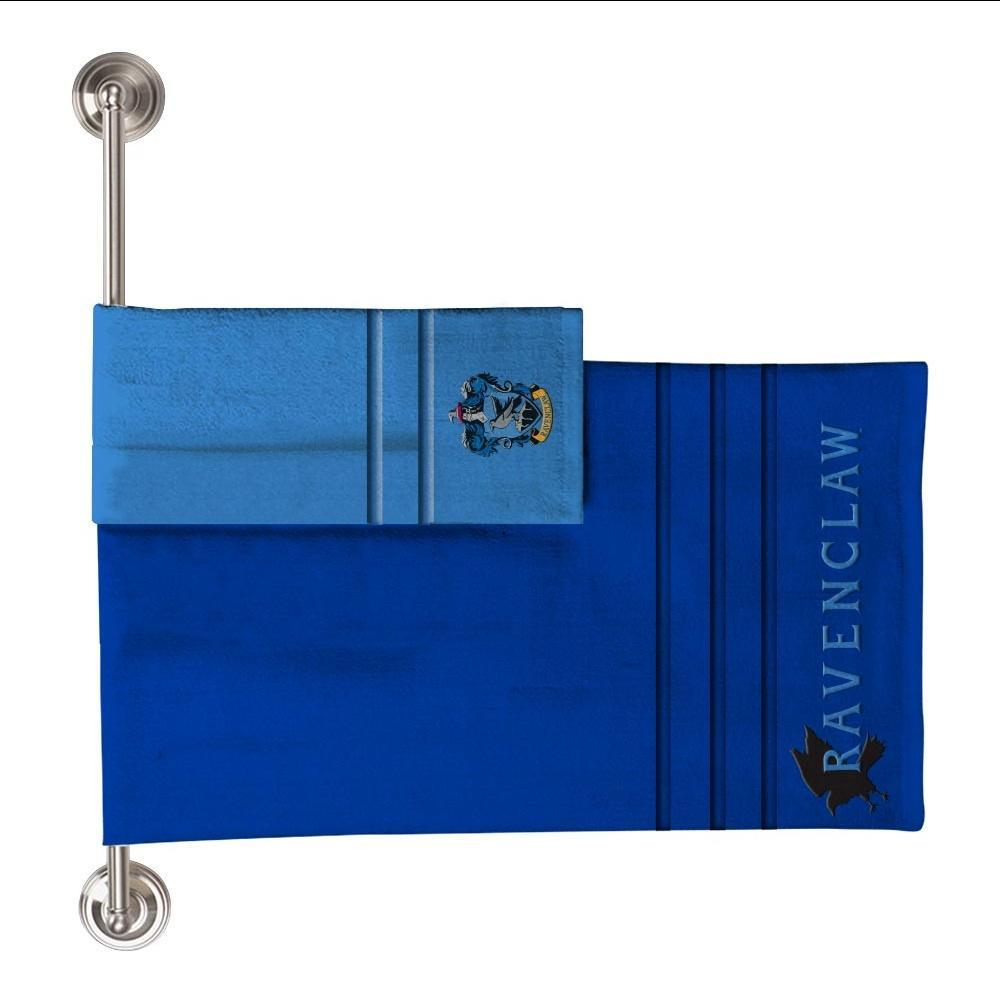towel: (95, 515, 918, 832)
